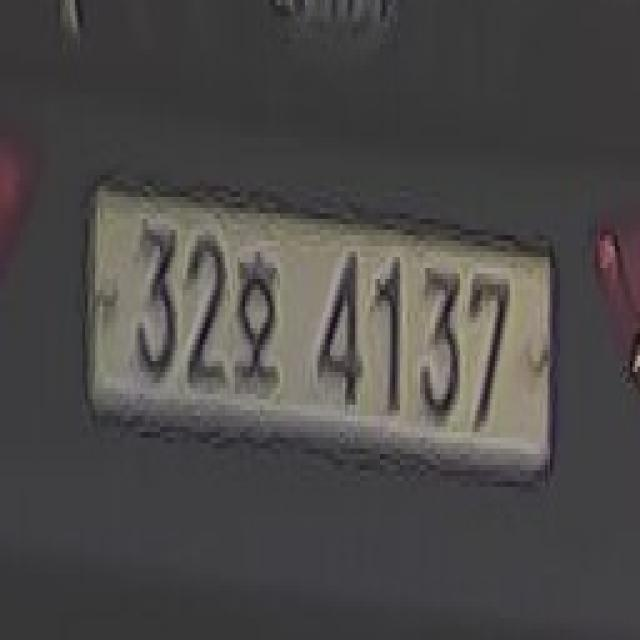1: (372, 257, 402, 416)
2: (180, 230, 230, 388)
3: (415, 257, 463, 432), (135, 219, 183, 388)
4: (312, 246, 362, 405)
7: (465, 268, 510, 432)
ho: (228, 246, 280, 399)
license_plate: (80, 169, 552, 482)
